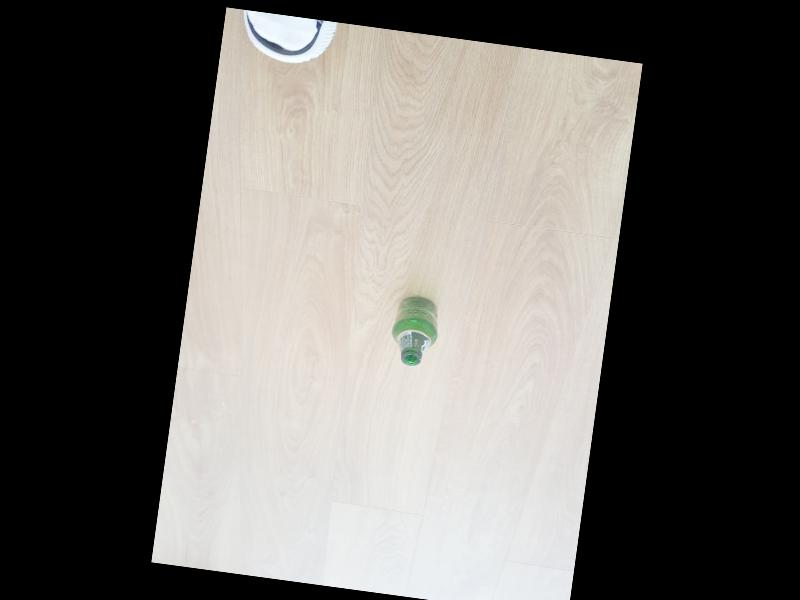Beer: (384, 292, 441, 368)
